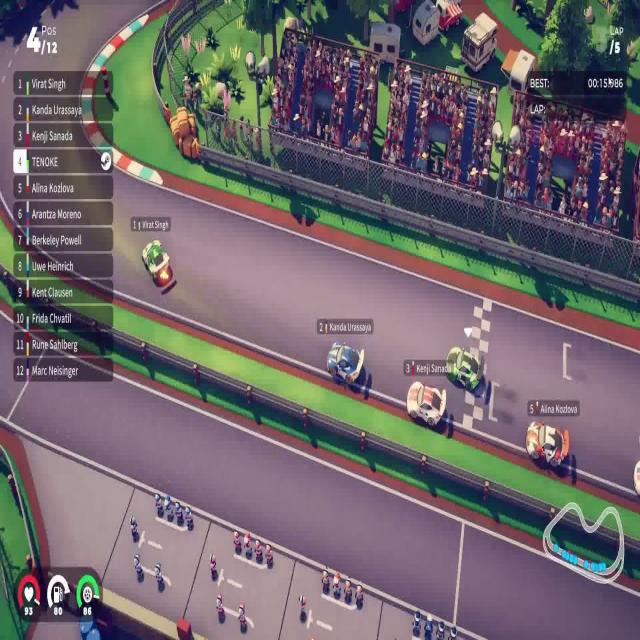car: (525, 420, 570, 470), (406, 380, 447, 429), (445, 345, 482, 393), (326, 341, 365, 386), (141, 238, 173, 288)
